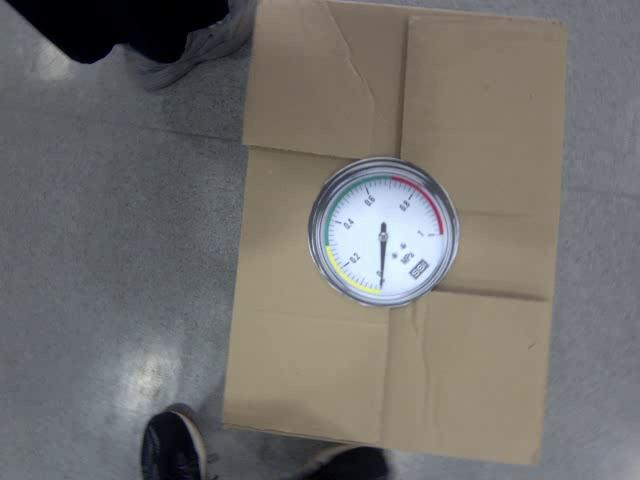Dashboard: (305, 157, 462, 310)
ssi: (405, 259, 429, 279)
